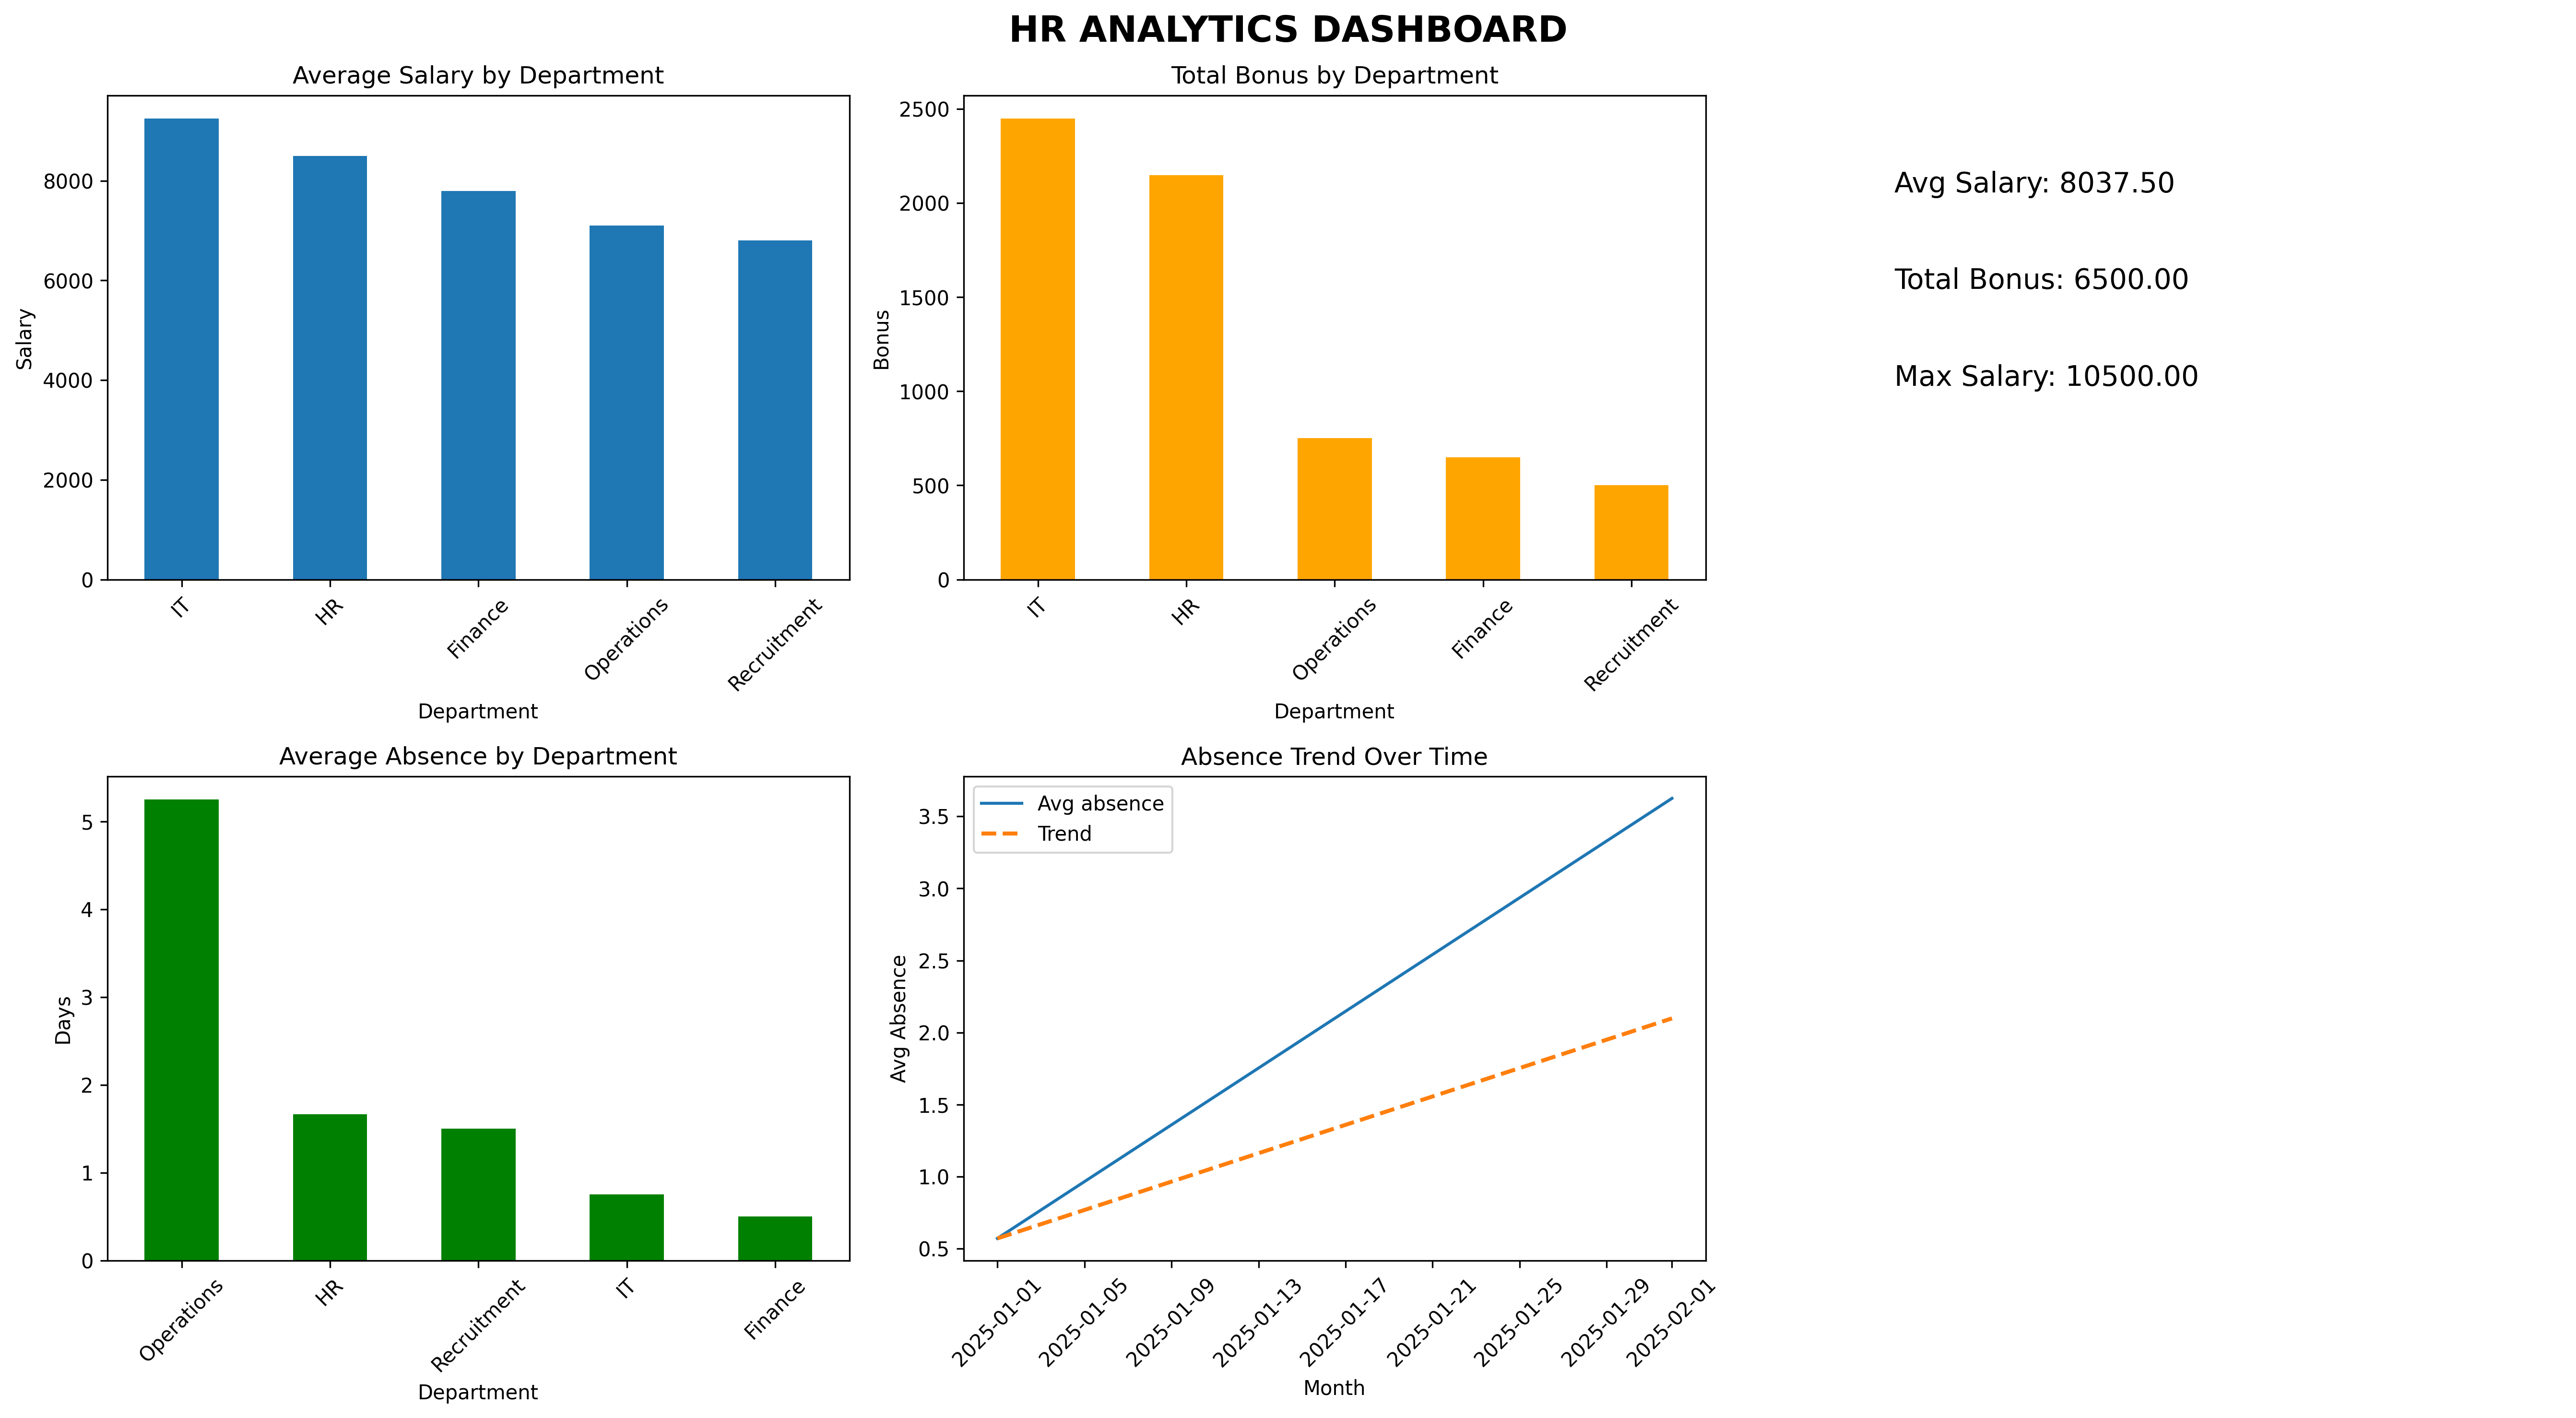

The page's visual inventory and layout, read from the dashboard file:
{"tool":"powerbi","page":{"name":"Strona 1","canvas":[1280,720],"ordinal":0},"visuals":[{"type":"card","fields":{"Values":["salaries.Avg Salary"]},"box":[16,16,288,128],"z":0},{"type":"card","fields":{"Values":["employees.Employees"]},"box":[880,16,288,128],"z":1000},{"type":"card","fields":{"Values":["attendance.Avg Absence"]},"box":[592,16,288,128],"z":2000},{"type":"card","fields":{"Values":["salaries.Total Payroll"]},"box":[304,16,288,128],"z":3000},{"type":"clusteredColumnChart","title":"Salary by Department","fields":{"Category":["employees.department"],"Y":["salaries.Avg Salary"]},"box":[16,224,352,240],"z":4000},{"type":"clusteredColumnChart","title":"Absence by Department","fields":{"Category":["employees.department"],"Y":["attendance.Avg Absence"]},"box":[384,224,352,240],"z":5000},{"type":"clusteredColumnChart","title":"Payroll by Department","fields":{"Category":["employees.department"],"Y":["salaries.Total Payroll"]},"box":[736,224,352,240],"z":6000},{"type":"tableEx","fields":{"Values":["salaries.employee_id","employees.department","salaries.Total Employee Salary"]},"box":[16,474,352,240],"z":7000},{"type":"lineChart","title":"Absence trend","fields":{"Category":["attendance.month.Odmiana.Hierarchia dat.Miesiąc"],"Y":["attendance.Avg Absence"]},"box":[384,474,352,240],"z":8000},{"type":"slicer","fields":{"Values":["employees.department"]},"box":[1120,224,144,240],"z":9000},{"type":"slicer","fields":{"Values":["attendance.month"]},"box":[784,464,352,96],"z":10000},{"type":"textbox","box":[832,576,304,112],"z":11000}]}

Visuals, with their boxes in screenshot pixels (x1, y1, x2, y2), scaled from the page's 1280x720 canvas onto the 2576x1418 screenshot:
card - salaries.Avg Salary: l=32, t=32, r=612, b=284
card - employees.Employees: l=1771, t=32, r=2351, b=284
card - attendance.Avg Absence: l=1192, t=32, r=1771, b=284
card - salaries.Total Payroll: l=612, t=32, r=1192, b=284
"Salary by Department" clusteredColumnChart: l=32, t=441, r=741, b=914
"Absence by Department" clusteredColumnChart: l=773, t=441, r=1481, b=914
"Payroll by Department" clusteredColumnChart: l=1481, t=441, r=2189, b=914
tableEx - salaries.employee_id x employees.department: l=32, t=933, r=741, b=1406
"Absence trend" lineChart: l=773, t=933, r=1481, b=1406
slicer - employees.department: l=2254, t=441, r=2544, b=914
slicer - attendance.month: l=1578, t=914, r=2286, b=1103
textbox: l=1674, t=1134, r=2286, b=1355
